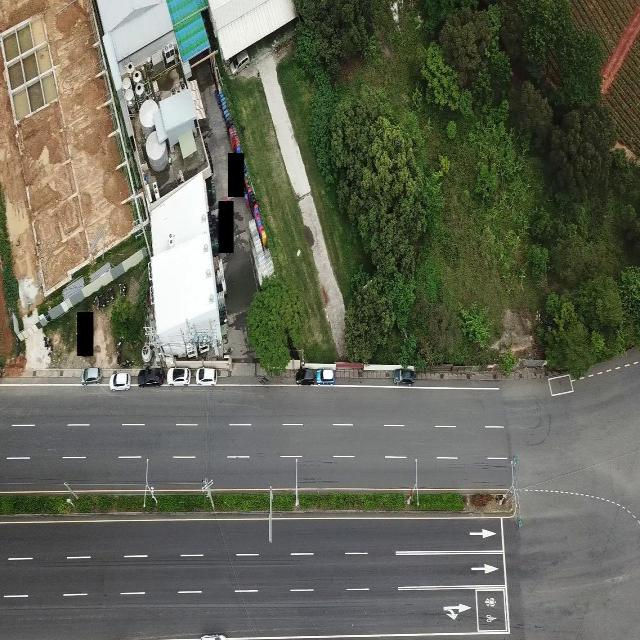bike: (121, 357, 134, 369), (115, 341, 122, 352), (122, 283, 127, 297), (109, 287, 114, 300), (105, 289, 109, 305), (118, 282, 122, 296), (116, 352, 120, 365)
car: (138, 367, 165, 388), (230, 52, 250, 77), (392, 365, 416, 385), (195, 364, 218, 384), (313, 364, 336, 384), (108, 372, 131, 392), (170, 367, 190, 387), (83, 365, 103, 384), (296, 366, 314, 386), (199, 633, 226, 640)
